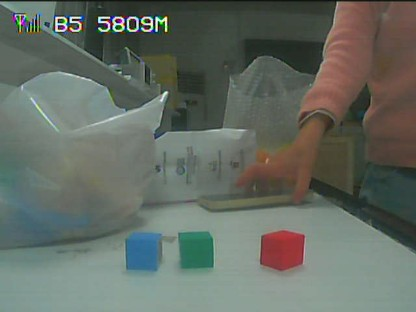b: (125, 233, 161, 270)
g: (179, 233, 212, 268)
r: (264, 230, 300, 266)
